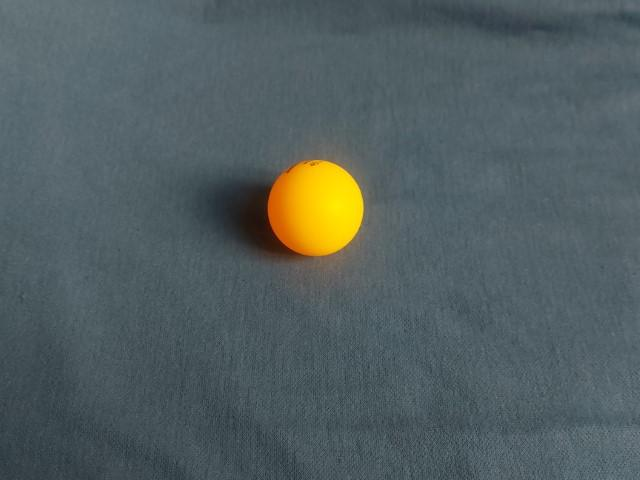oball: (262, 158, 366, 261)
